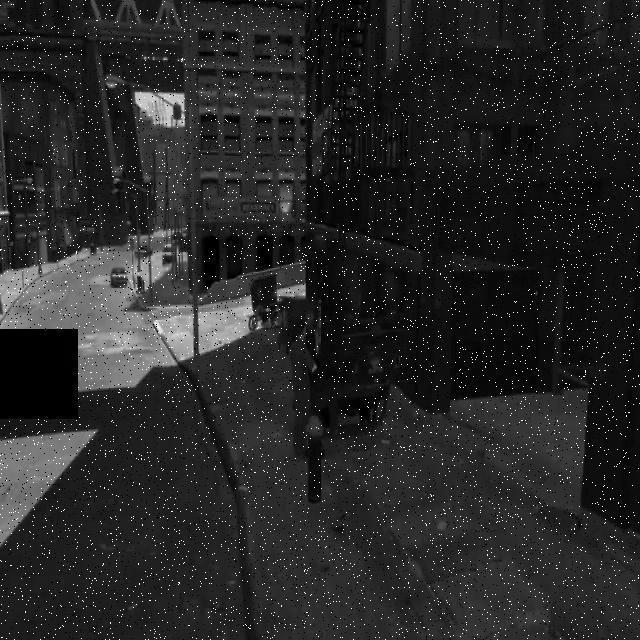accident: (276, 283, 411, 438)
vehicle: (104, 260, 136, 295)
